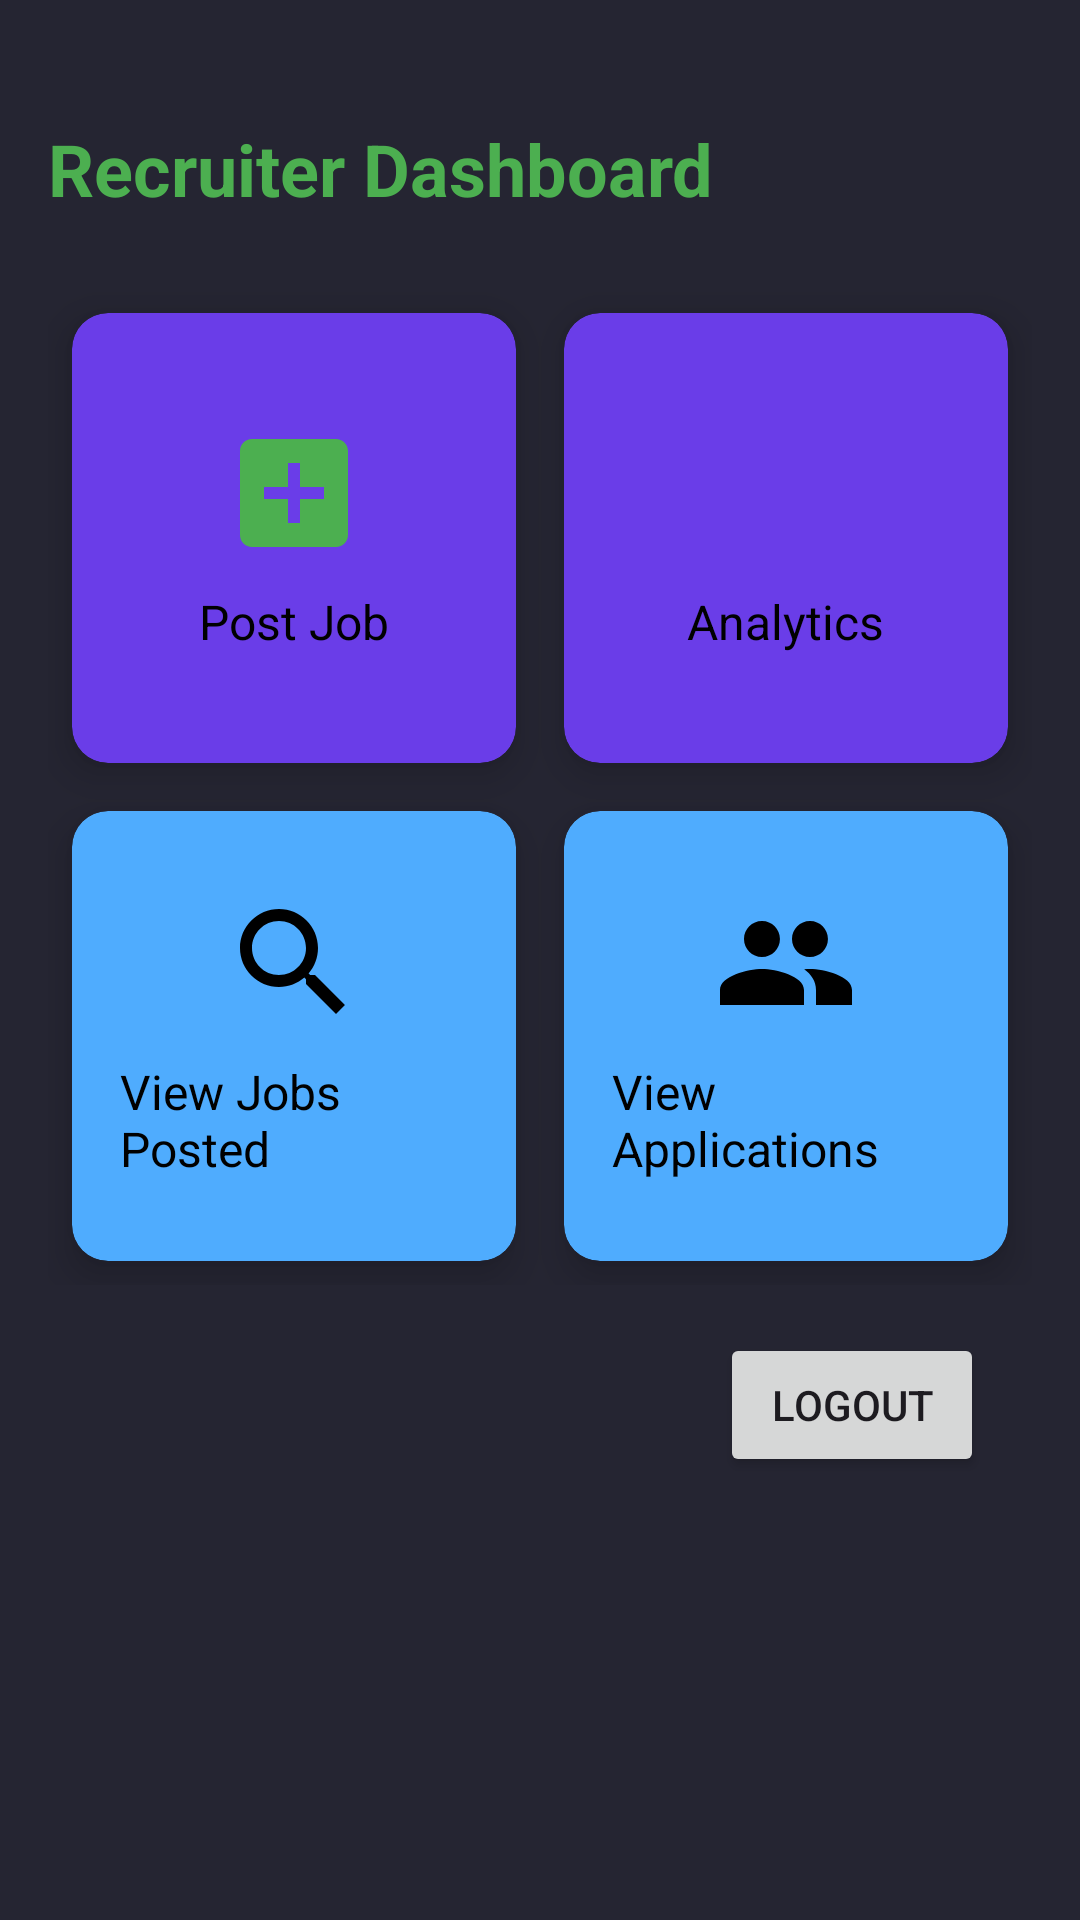

Where icons sit on this 1080x1920 app screen, as (x1, y1, x2, y2):
search job: (240, 909, 345, 1014)
